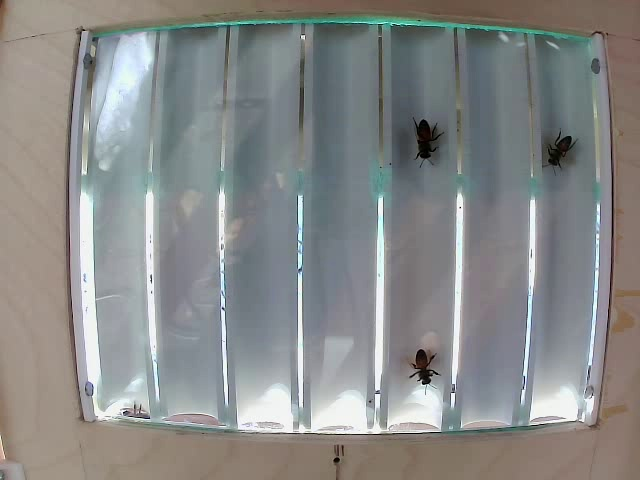bee: (411, 112, 446, 184), (403, 331, 433, 391), (556, 130, 569, 174)
